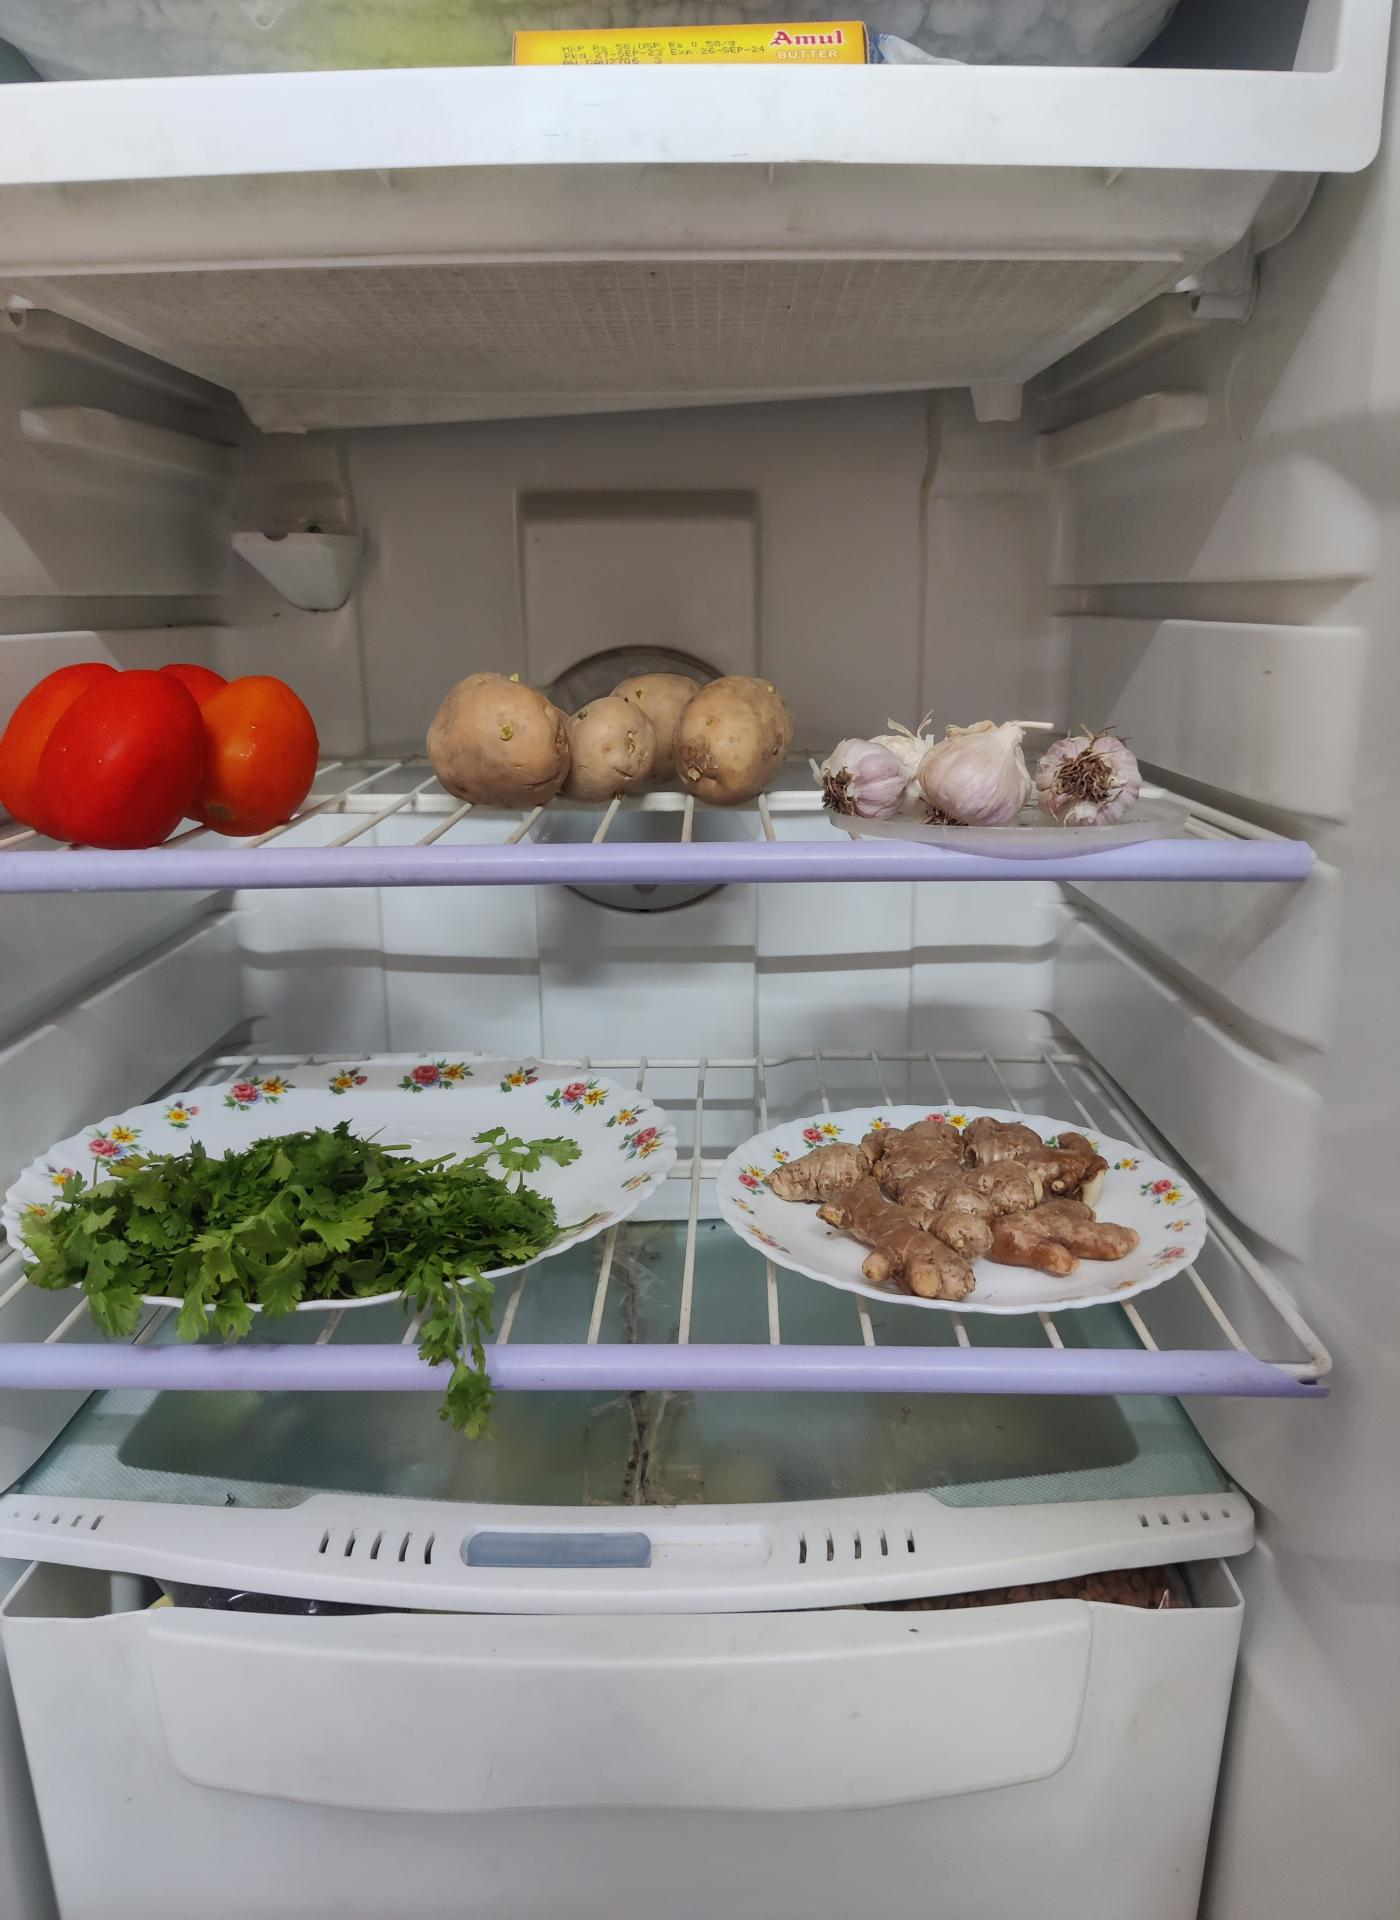coriander: (19, 1133, 568, 1343)
garlic: (824, 719, 1135, 829)
ginger: (753, 1115, 1132, 1303)
potato: (426, 663, 795, 805)
tomato: (4, 651, 327, 839)
